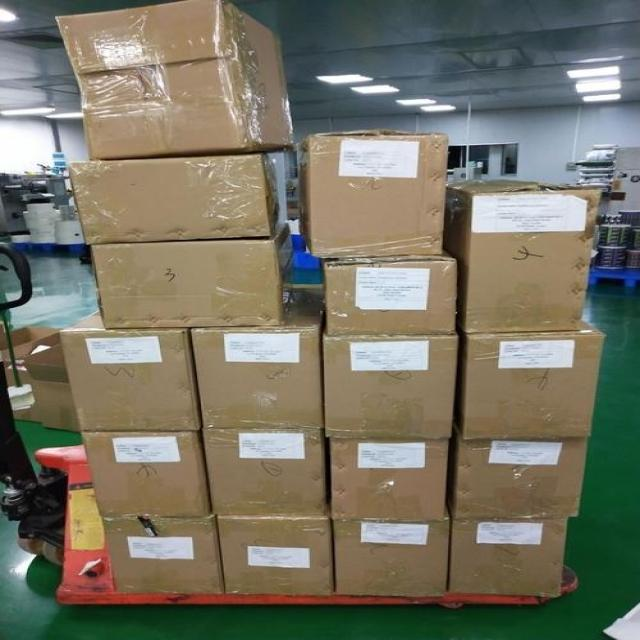box: (54, 0, 296, 158), (444, 178, 603, 331), (91, 223, 298, 327), (65, 154, 282, 246), (297, 130, 448, 258), (456, 319, 607, 440), (60, 310, 201, 433), (192, 300, 323, 429), (321, 332, 458, 439), (449, 435, 588, 521), (321, 248, 458, 334), (83, 431, 211, 517), (218, 504, 334, 596), (449, 516, 570, 598), (329, 438, 448, 521), (105, 513, 224, 594), (332, 520, 448, 596)
